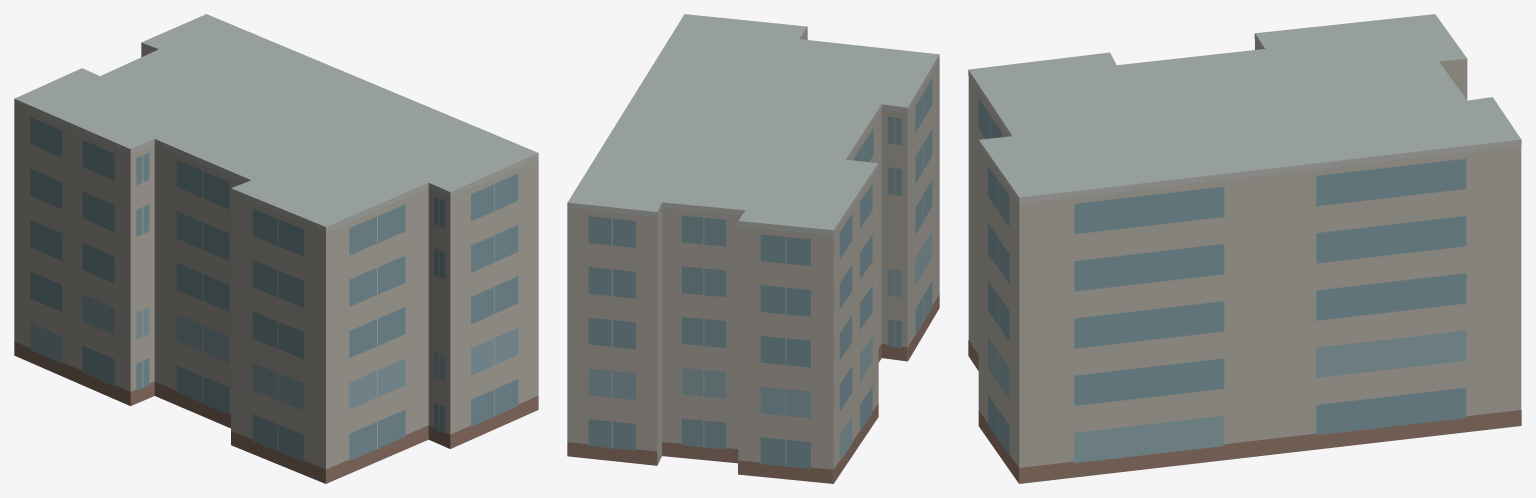
File: survey-upis-32652808.glb
The picture shows the model from 3 angles, left to right: view 1: azimuth 30°, elevation 25°; view 2: azimuth 150°, elevation 25°; view 3: azimuth 270°, elevation 25°; orthographic projection. The views are drawn at different scales.
Parts seen in each view (by area): view 1: survey-upis-32652808.tmp; view 2: survey-upis-32652808.tmp; view 3: survey-upis-32652808.tmp.
Boxes of the visible parts, x1,y1,x2,y2 form: survey-upis-32652808.tmp: (14,14,538,483); survey-upis-32652808.tmp: (567,14,939,483); survey-upis-32652808.tmp: (968,14,1521,483).
Bounding box in the file's own units: 16.17 × 11.75 × 20.58.
